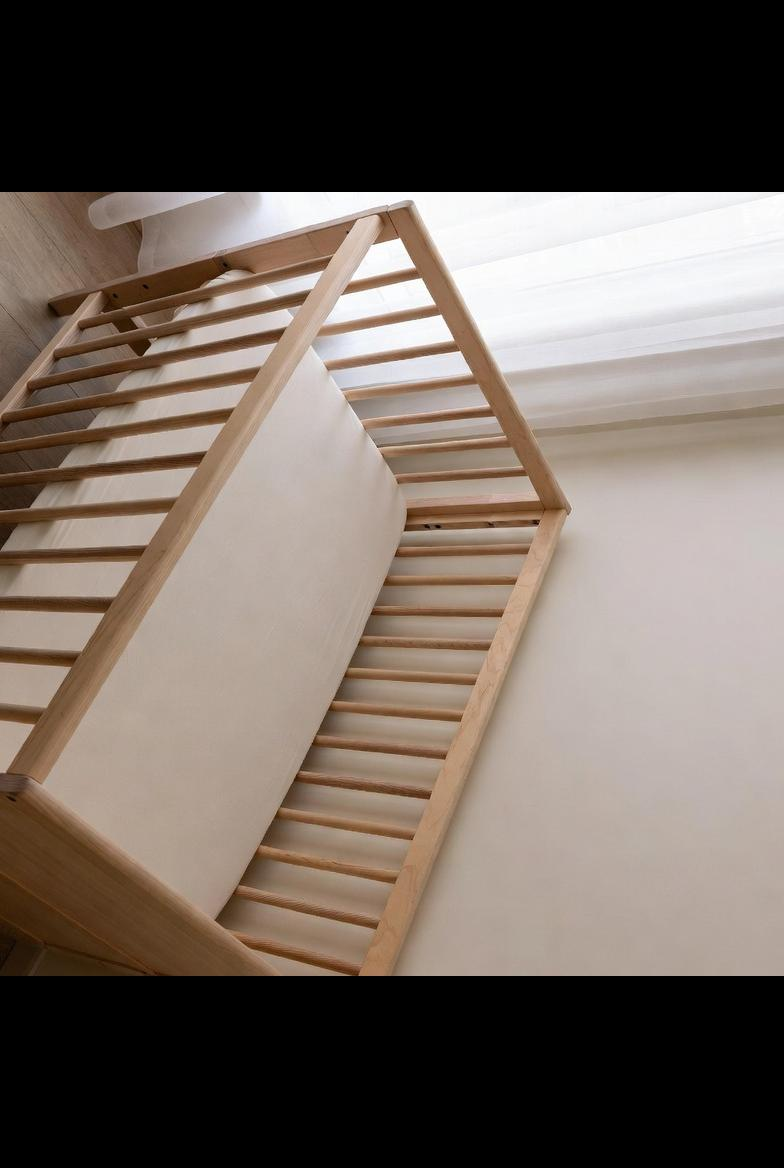crib: (0, 193, 578, 975)
